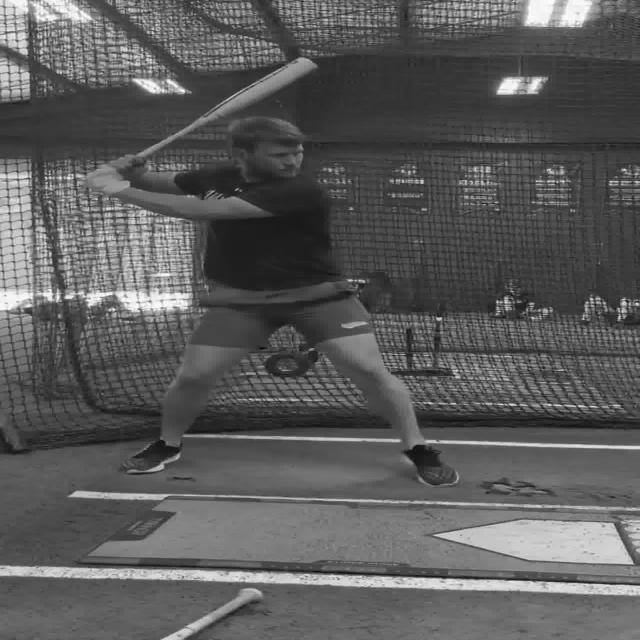base: (430, 517, 640, 570)
baseball_glove: (84, 153, 148, 195)
bat: (85, 56, 318, 191), (158, 584, 272, 640)
shoe: (402, 444, 459, 487), (120, 439, 182, 474)
